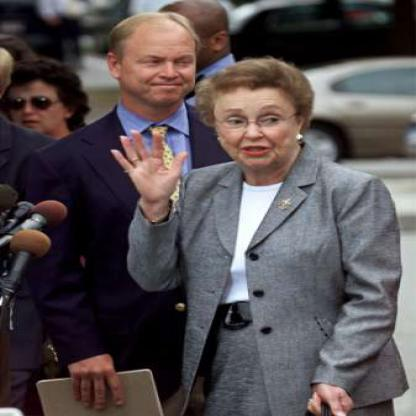face: (213, 71, 300, 170), (120, 18, 203, 108), (7, 68, 69, 136)
